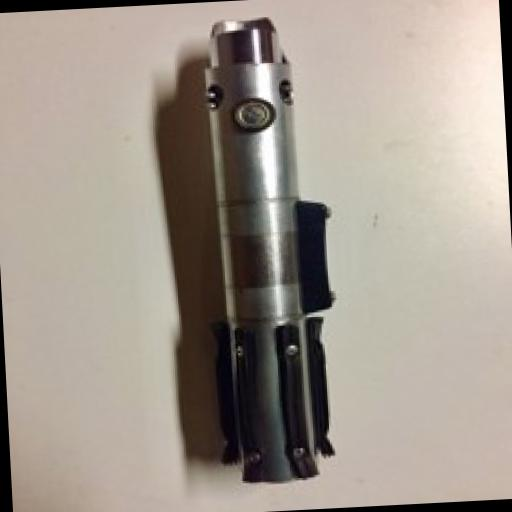lightsaber: (189, 10, 348, 488)
